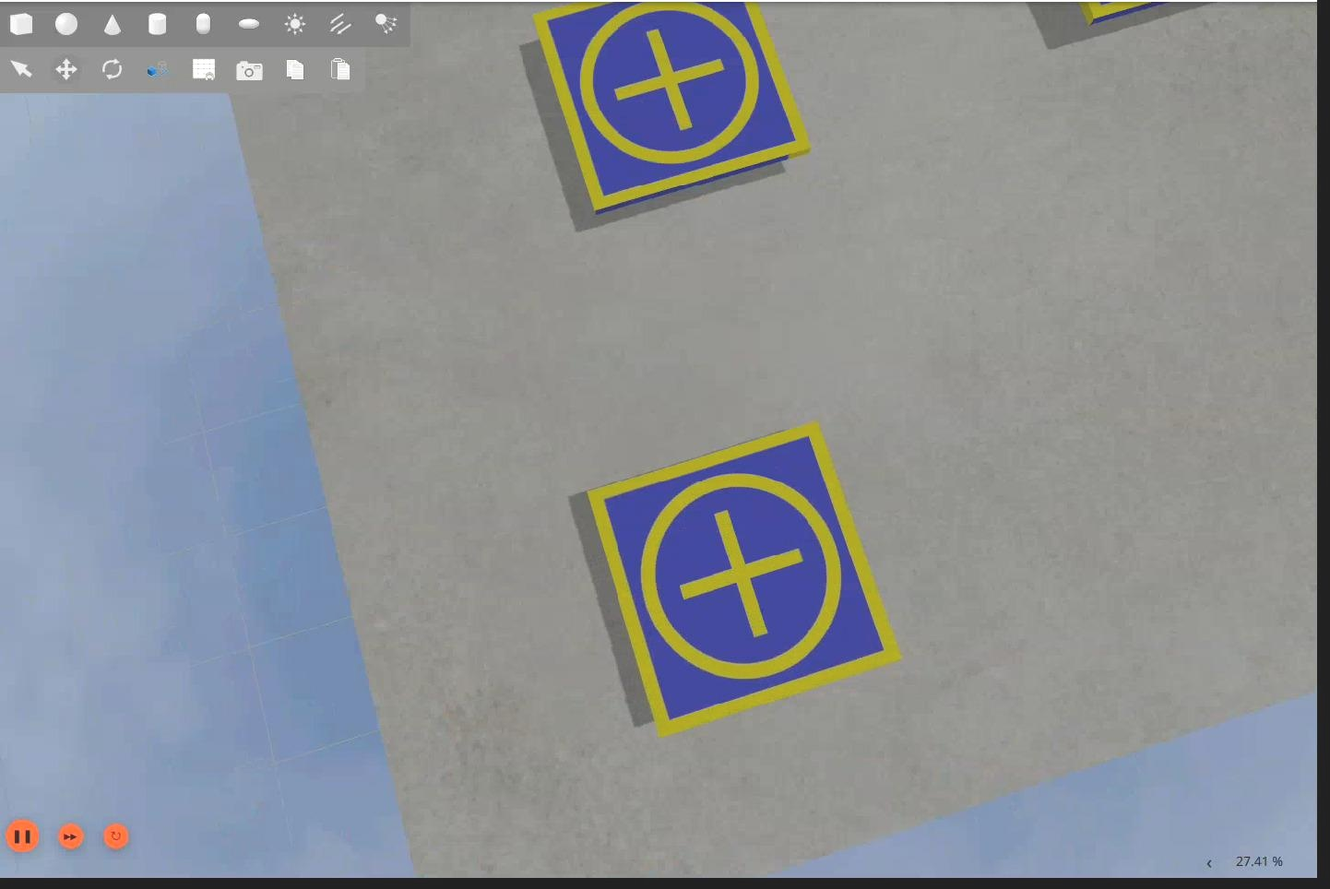small_base: (585, 424, 904, 738), (535, 1, 815, 218)
